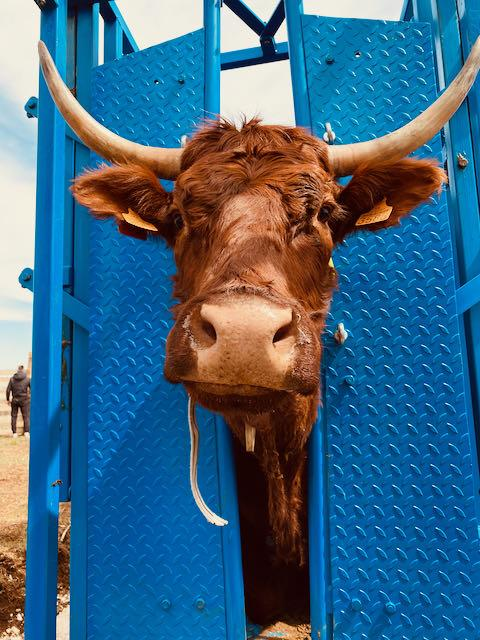muzzles: (159, 293, 333, 403)
